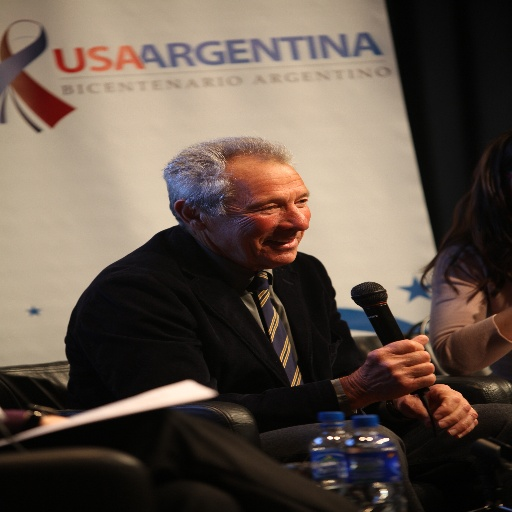hand: (338, 340, 455, 410), (384, 382, 479, 443)
